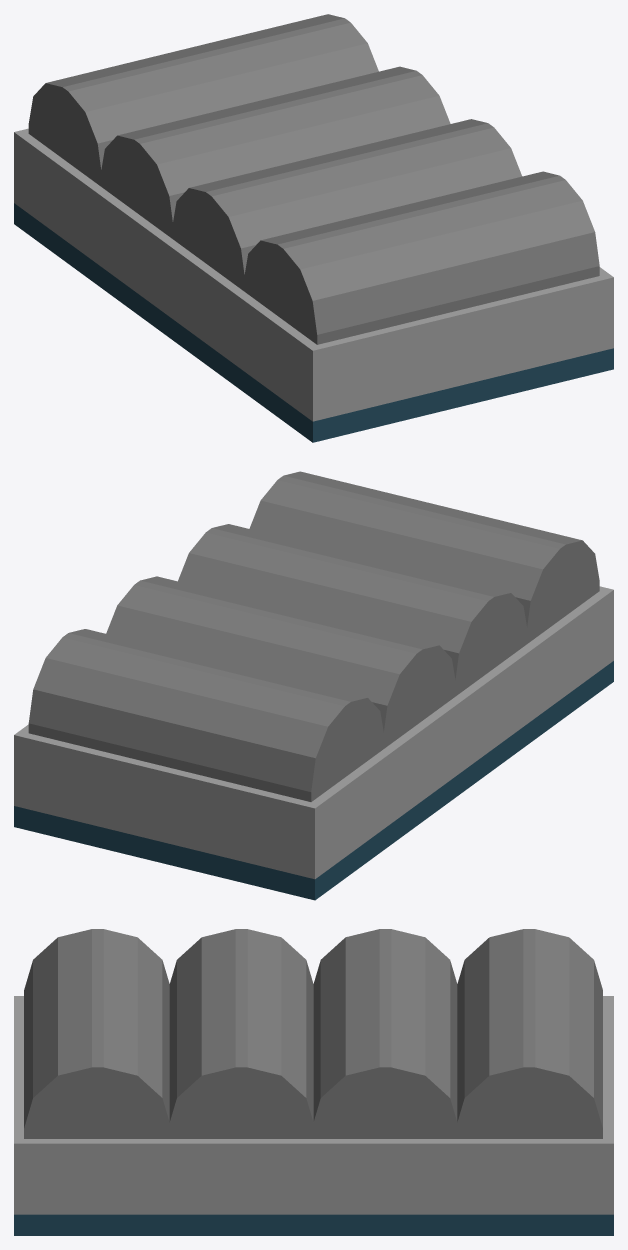
3 views of the same model, one above another, from view 1: azimuth 30°, elevation 25°; view 2: azimuth 150°, elevation 25°; view 3: azimuth 270°, elevation 25° (orthographic).
Parts seen in each view (by area): view 1: factorystructure_b.003; view 2: factorystructure_b.003; view 3: factorystructure_b.003.
Part boxes in pixels (<box>): factorystructure_b.003: <box>14,14,613,442</box>; factorystructure_b.003: <box>14,471,613,900</box>; factorystructure_b.003: <box>14,929,613,1235</box>.
Bounding box in the file's own units: 13.56 × 7.03 × 23.3.
Materials: 1 (1 with a texture image).
